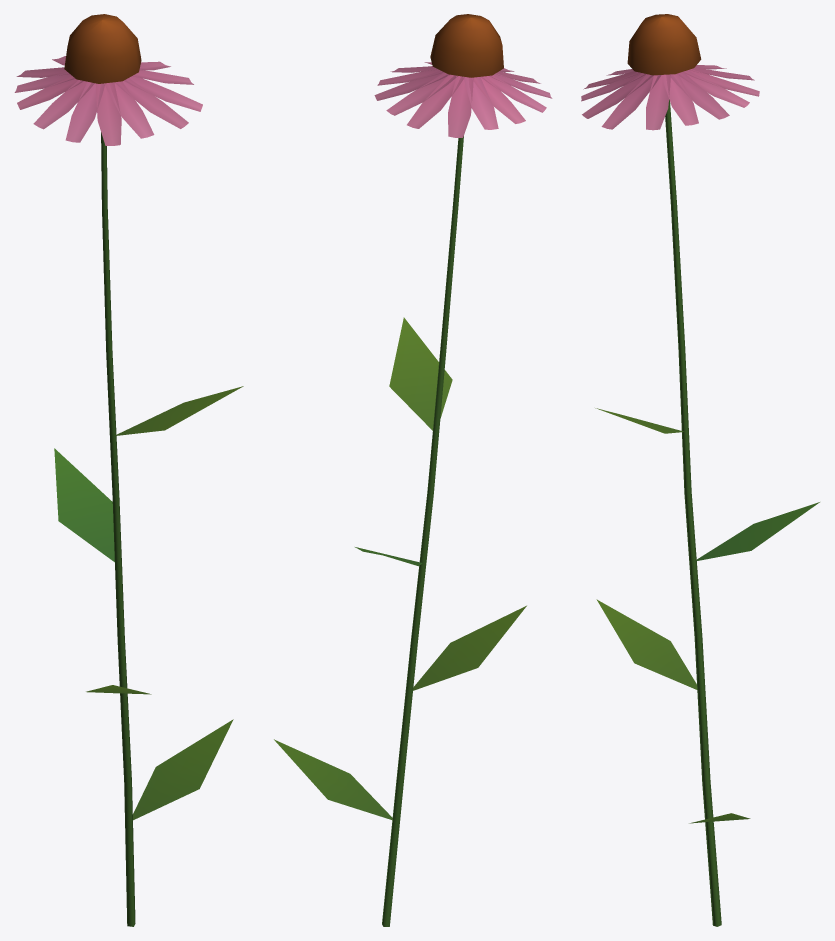
Rendered from flower-coneflower-a.lod0.glb.
3 renders of one model, left to right at view 1: azimuth 30°, elevation 25°; view 2: azimuth 150°, elevation 25°; view 3: azimuth 270°, elevation 25°, orthographic. The views are drawn at different scales.
Visible parts, largest first — view 1: flower-coneflower-a.lod0; view 2: flower-coneflower-a.lod0; view 3: flower-coneflower-a.lod0.
Part boxes in pixels (bbox=[...]): flower-coneflower-a.lod0: bbox=[14, 14, 243, 926]; flower-coneflower-a.lod0: bbox=[274, 14, 552, 926]; flower-coneflower-a.lod0: bbox=[581, 14, 819, 926].
Bounding box in the file's own units: 0.1627 × 0.6078 × 0.1498.
